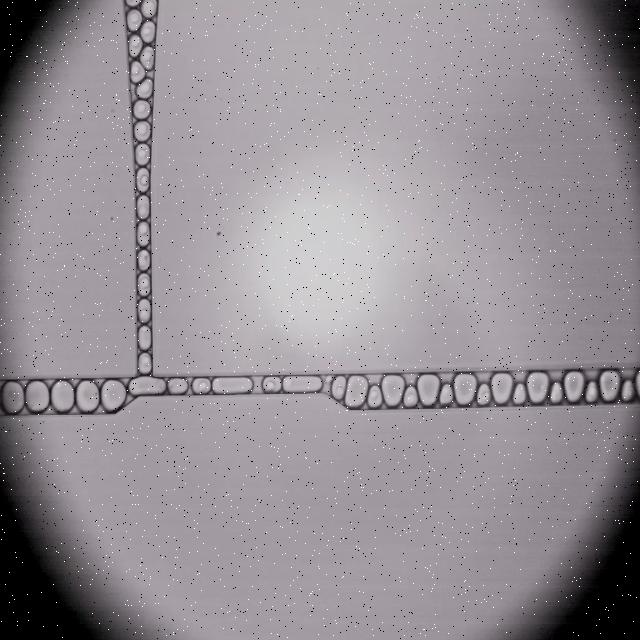L: (331, 376, 346, 400), (130, 61, 145, 83), (133, 100, 150, 119), (134, 122, 151, 141), (368, 385, 382, 408), (168, 378, 188, 394), (135, 144, 150, 165), (136, 79, 152, 98), (127, 10, 142, 30), (141, 46, 154, 69), (138, 326, 151, 349), (141, 21, 155, 42), (137, 168, 149, 192), (263, 377, 281, 393), (129, 34, 142, 56), (138, 353, 152, 373), (403, 387, 417, 407), (138, 299, 150, 322), (440, 384, 453, 405), (477, 384, 490, 405), (621, 380, 634, 401), (193, 378, 210, 394), (137, 196, 149, 218), (138, 274, 150, 296), (513, 384, 526, 404), (550, 383, 563, 403), (585, 382, 598, 402), (142, 0, 157, 17), (138, 222, 149, 245), (138, 250, 150, 270), (125, 0, 140, 6)
S: (1, 381, 24, 413), (345, 376, 368, 408), (102, 380, 126, 410), (381, 375, 404, 406), (417, 374, 440, 405), (26, 381, 49, 411), (51, 381, 73, 412), (77, 381, 99, 412), (454, 374, 476, 405), (491, 373, 513, 404), (213, 377, 253, 394), (130, 376, 165, 395), (283, 376, 322, 393), (527, 372, 548, 403), (564, 371, 584, 402), (599, 370, 619, 401)
